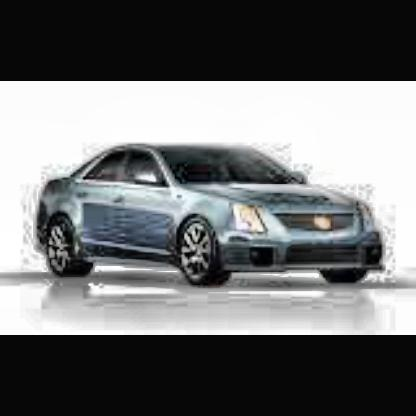Cadillac CTS-V Sedan 2012: (34, 141, 390, 294)
